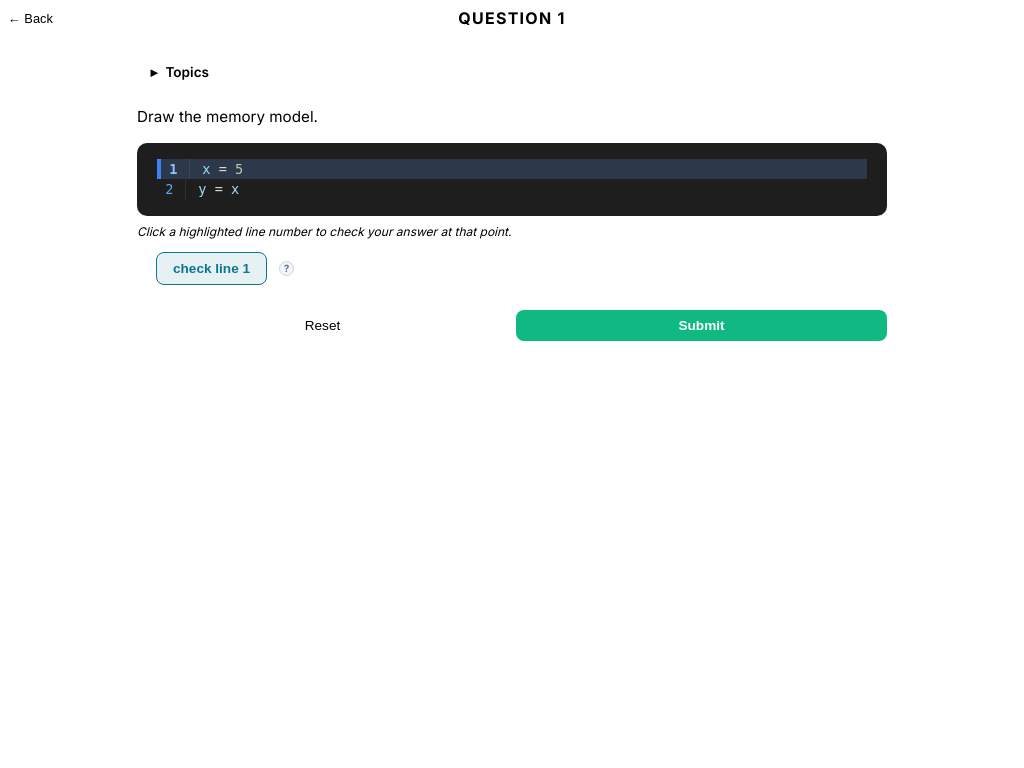
QuestionTab component › shows an info icon describing the check-then-advance behavior
Expected: the text "Draw the memory model." is shown, [137,107,318,126]
Click the button named "help: check line".
click(287, 268)  # box [279,260,294,276]
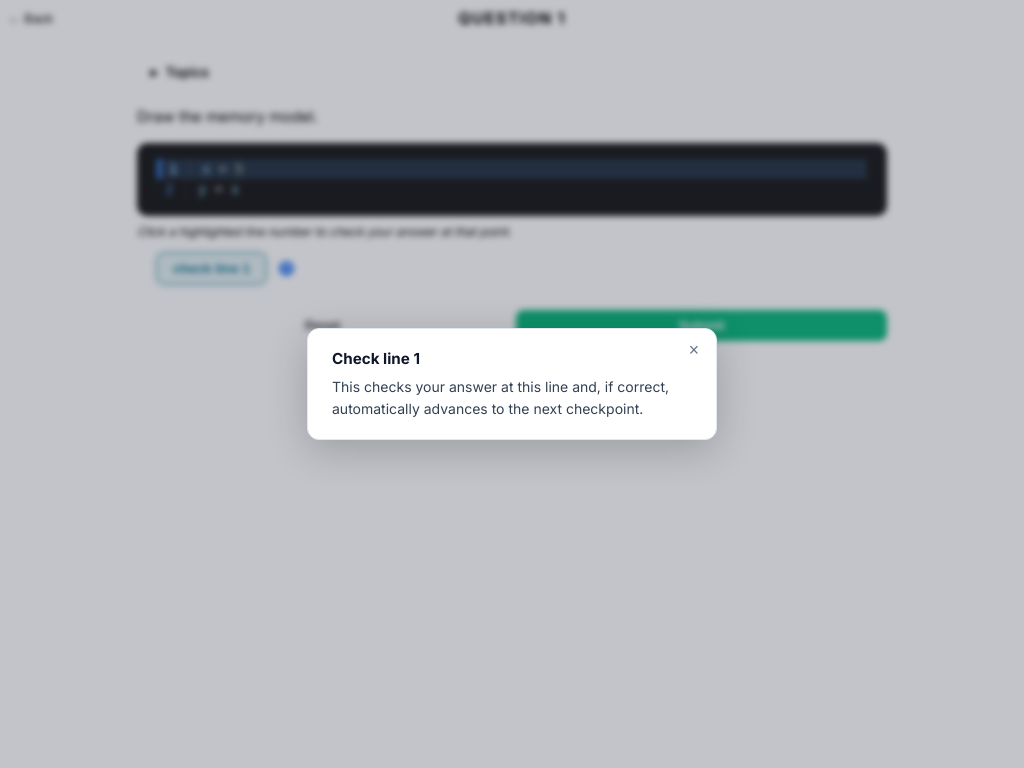
Expected: the dialog "Check line" is shown, [307,328,717,440]
Expected: the text "checks your answer at this line and, if correct, automatically advances to the next checkpoint" is shown, [332,378,669,416]
